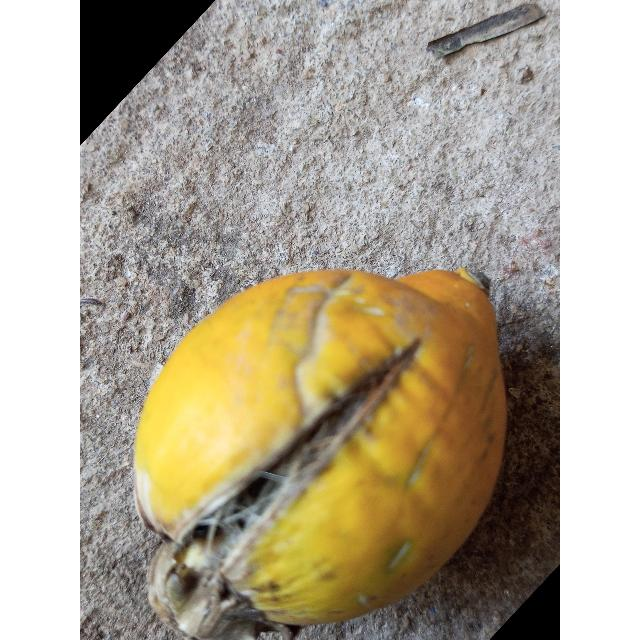damaged: (134, 269, 506, 640)
